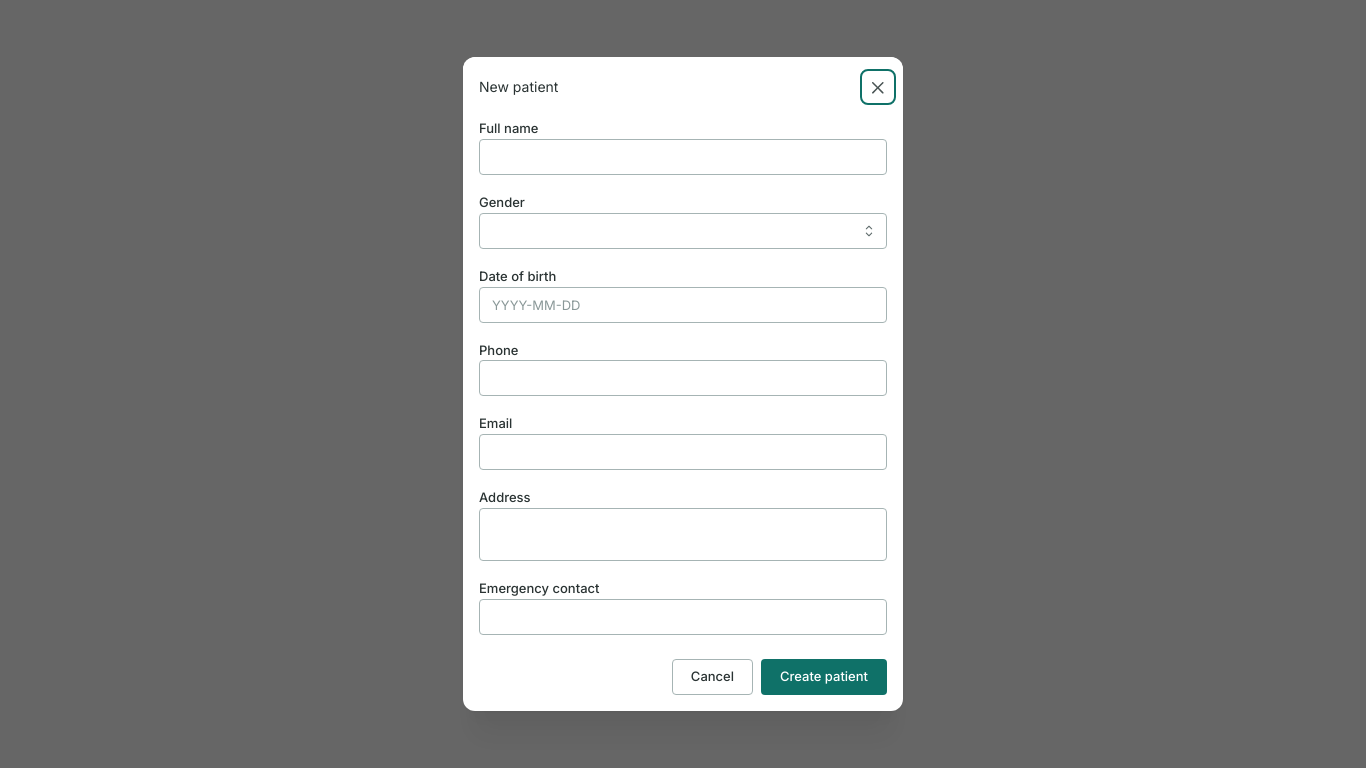
it: PatientFormDialog › creates a patient on success
Type "Asha Rao" into the field labelled "Full name".
click(683, 157); type("Asha Rao")  # box [479,139,887,175]
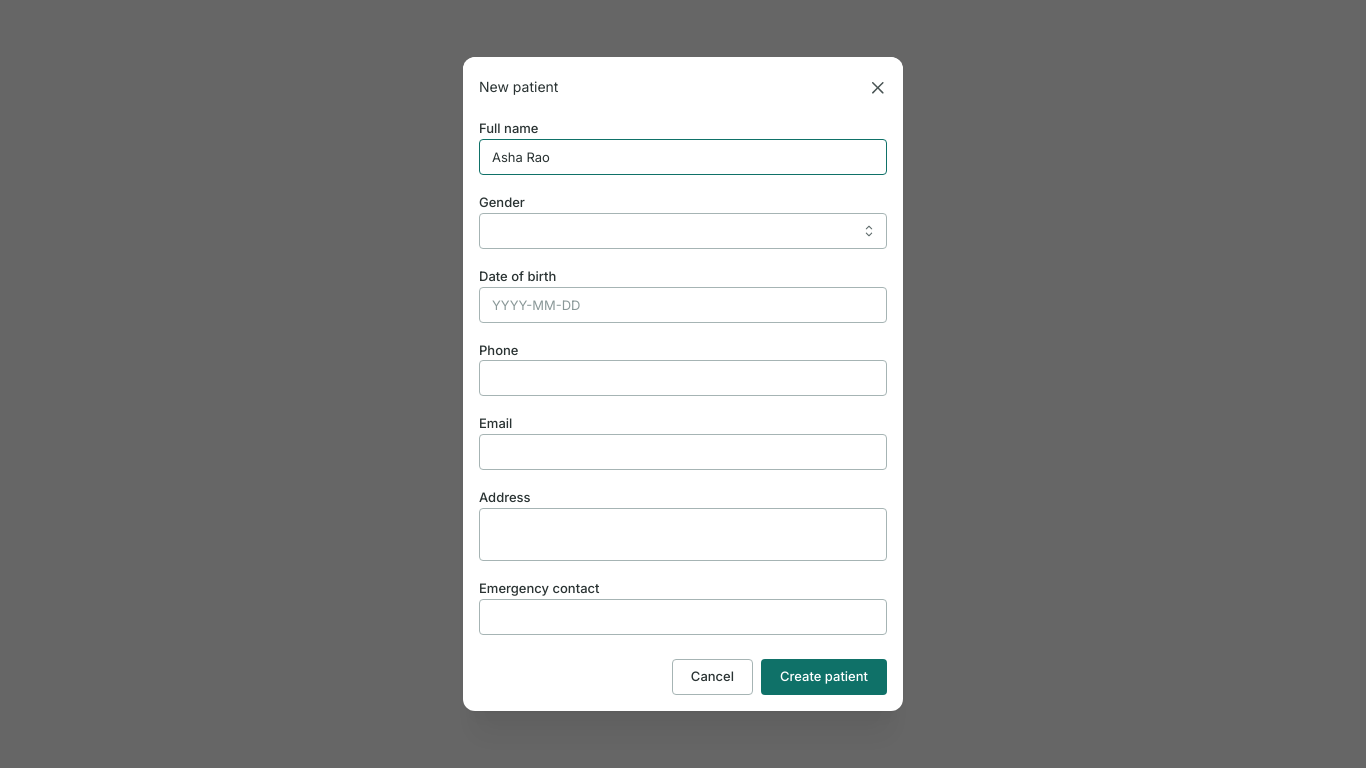
Click the button "Create patient".
click(824, 676)  # box [761,658,887,694]
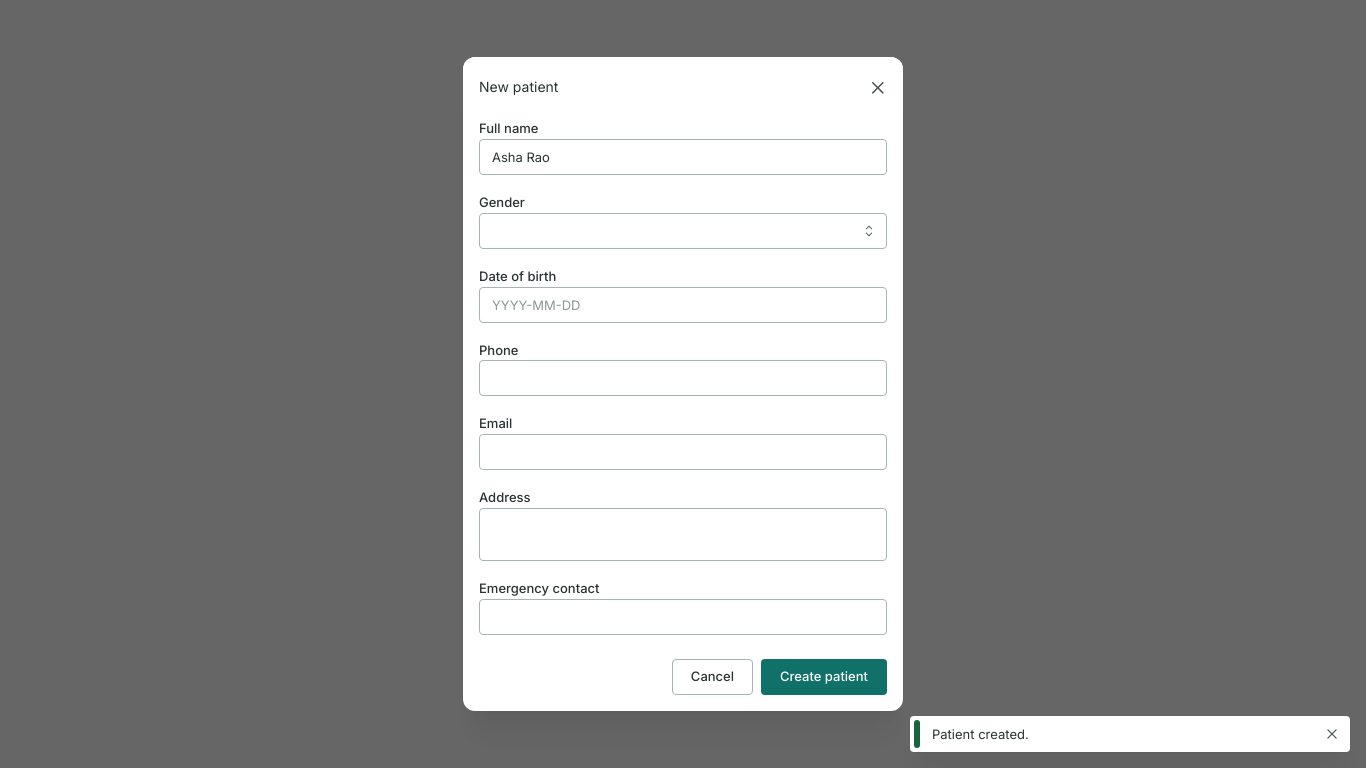
Expected: the text "Patient created." is shown, [932,726,1029,742]
